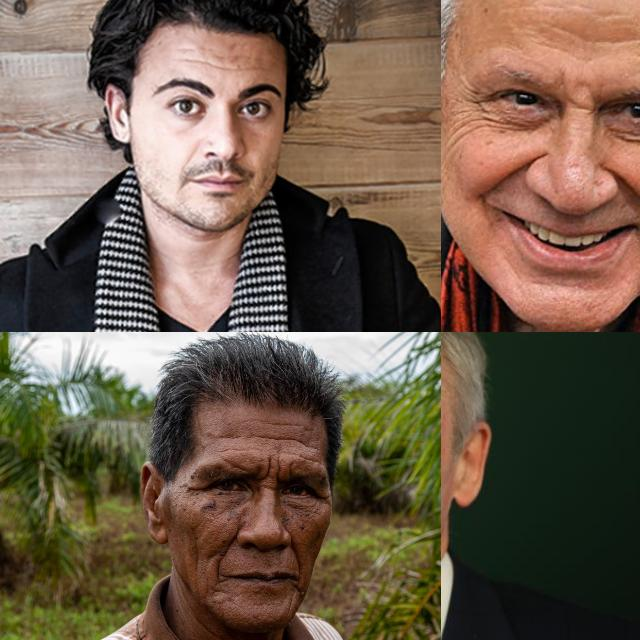chin: (286, 596, 294, 616), (207, 584, 223, 594)
crows_feet: (451, 85, 487, 132), (183, 478, 203, 499), (316, 490, 332, 504)
forehead: (556, 24, 640, 55), (184, 48, 256, 74), (254, 427, 302, 445), (256, 418, 302, 432), (212, 441, 244, 457), (294, 450, 326, 466)
frown_line: (564, 93, 594, 117), (262, 455, 280, 481)
gummy_smile: (490, 154, 536, 192), (618, 168, 640, 220), (216, 531, 238, 565), (290, 543, 306, 567)
